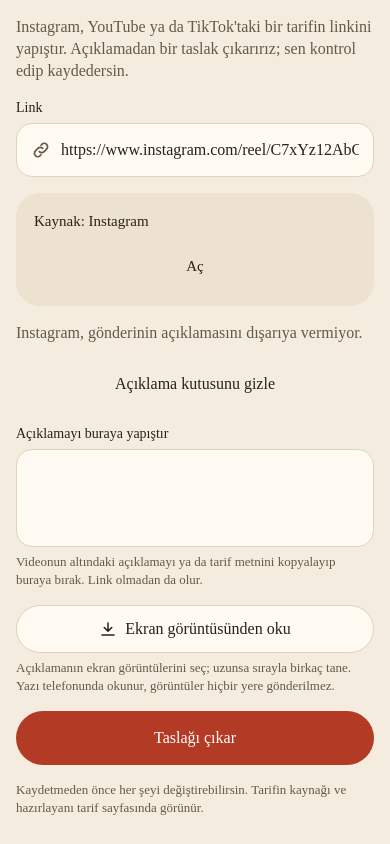
Test: Instagram: Ekran görüntüsünden oku › reads two screenshots on the phone and imports the text like a pasted caption
Expected: the text "Instagram, gönderinin açıklamasını dışarıya vermiyor." is shown, top-left (16, 322), bottom-right (374, 344)
What coordinates should you click on to do the following:
click the button "Ekran görüntüsünden oku"
I would click on:
 (195, 629)
Its box is top-left (16, 605), bottom-right (374, 653).
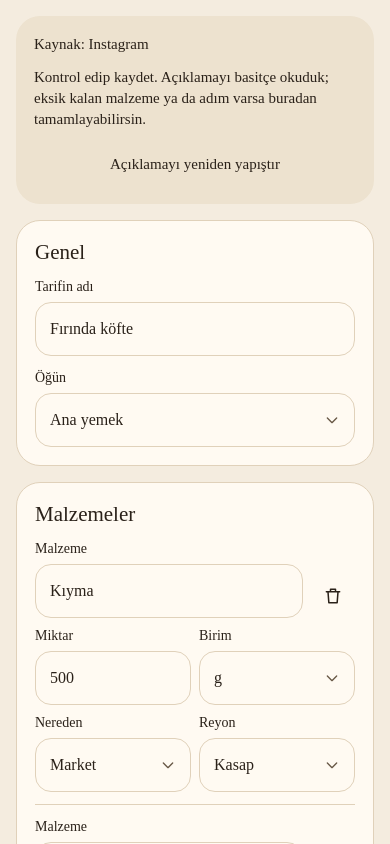
Result: the field showing "Fırında köfte" is shown at top-left (50, 304), bottom-right (340, 354)
